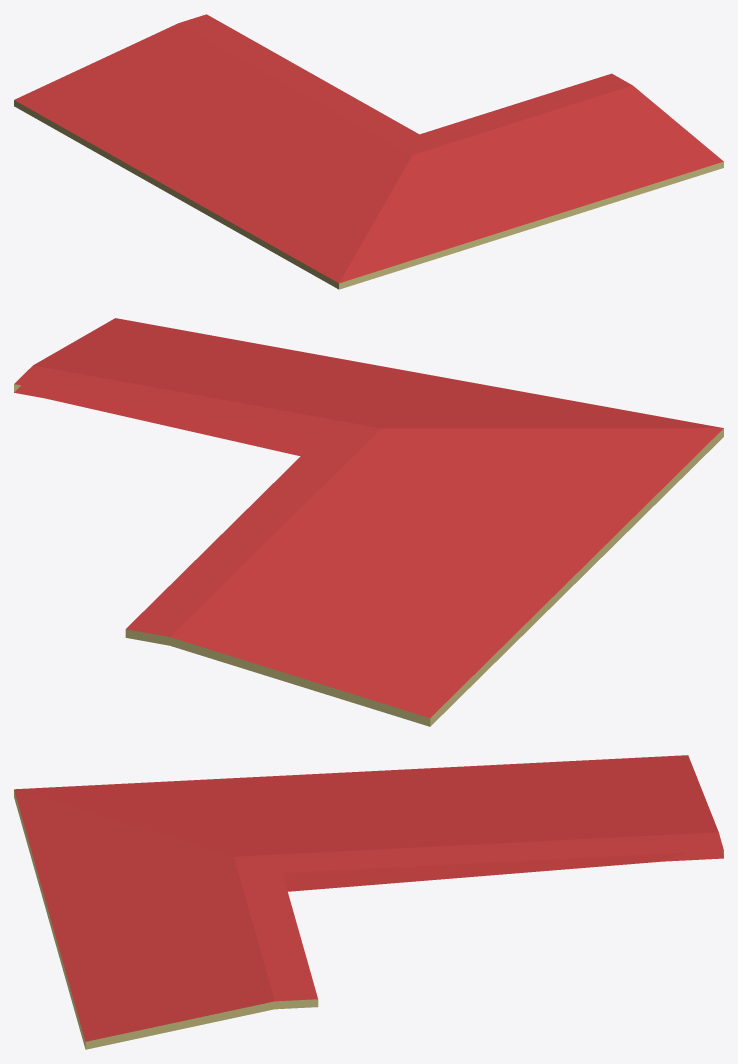
3 views of the same model, one above another, from view 1: azimuth 30°, elevation 25°; view 2: azimuth 150°, elevation 25°; view 3: azimuth 270°, elevation 25° (orthographic). The views are drawn at different scales.
Bounding box in the file's own units: 7.75 × 8.11 × 0.49.
